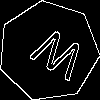W: (23, 26, 88, 90)
